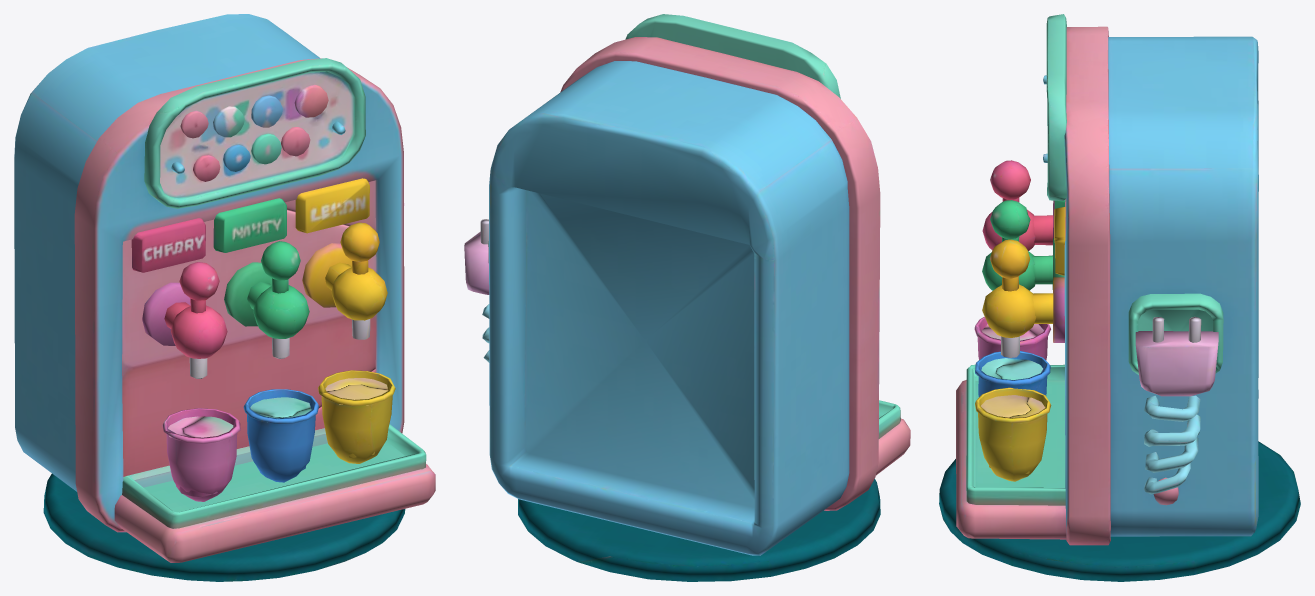
Rendered from fastfood-soda-fountain.glb.
3 renders of one model, left to right at view 1: azimuth 30°, elevation 25°; view 2: azimuth 150°, elevation 25°; view 3: azimuth 270°, elevation 25°, orthographic.
Visible parts, largest first — view 1: geometry_0; view 2: geometry_0; view 3: geometry_0.
Part boxes in pixels (x1,y1,x2,y2): geometry_0: (14,14,435,581); geometry_0: (464,14,910,581); geometry_0: (939,14,1300,581).
Bounding box in the file's own units: 0.8102 × 1 × 0.7207.
Materials: 1 (1 with a texture image).
